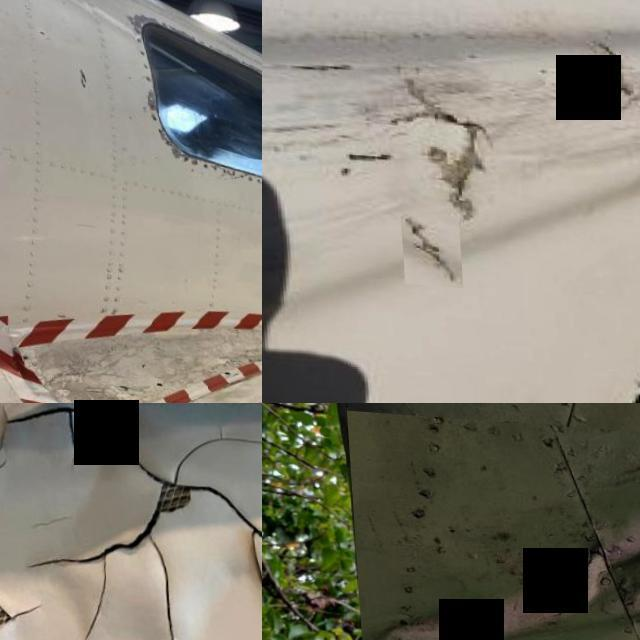Crack: (18, 501, 169, 640), (382, 73, 488, 218), (174, 475, 262, 622), (0, 403, 96, 471), (96, 403, 163, 487), (395, 210, 456, 285), (522, 535, 566, 584), (335, 149, 388, 162), (283, 61, 341, 72)
Dent: (344, 408, 640, 640), (345, 599, 496, 640)
